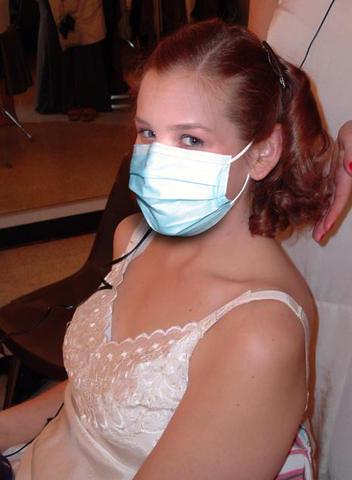surgical: (119, 141, 248, 238)
